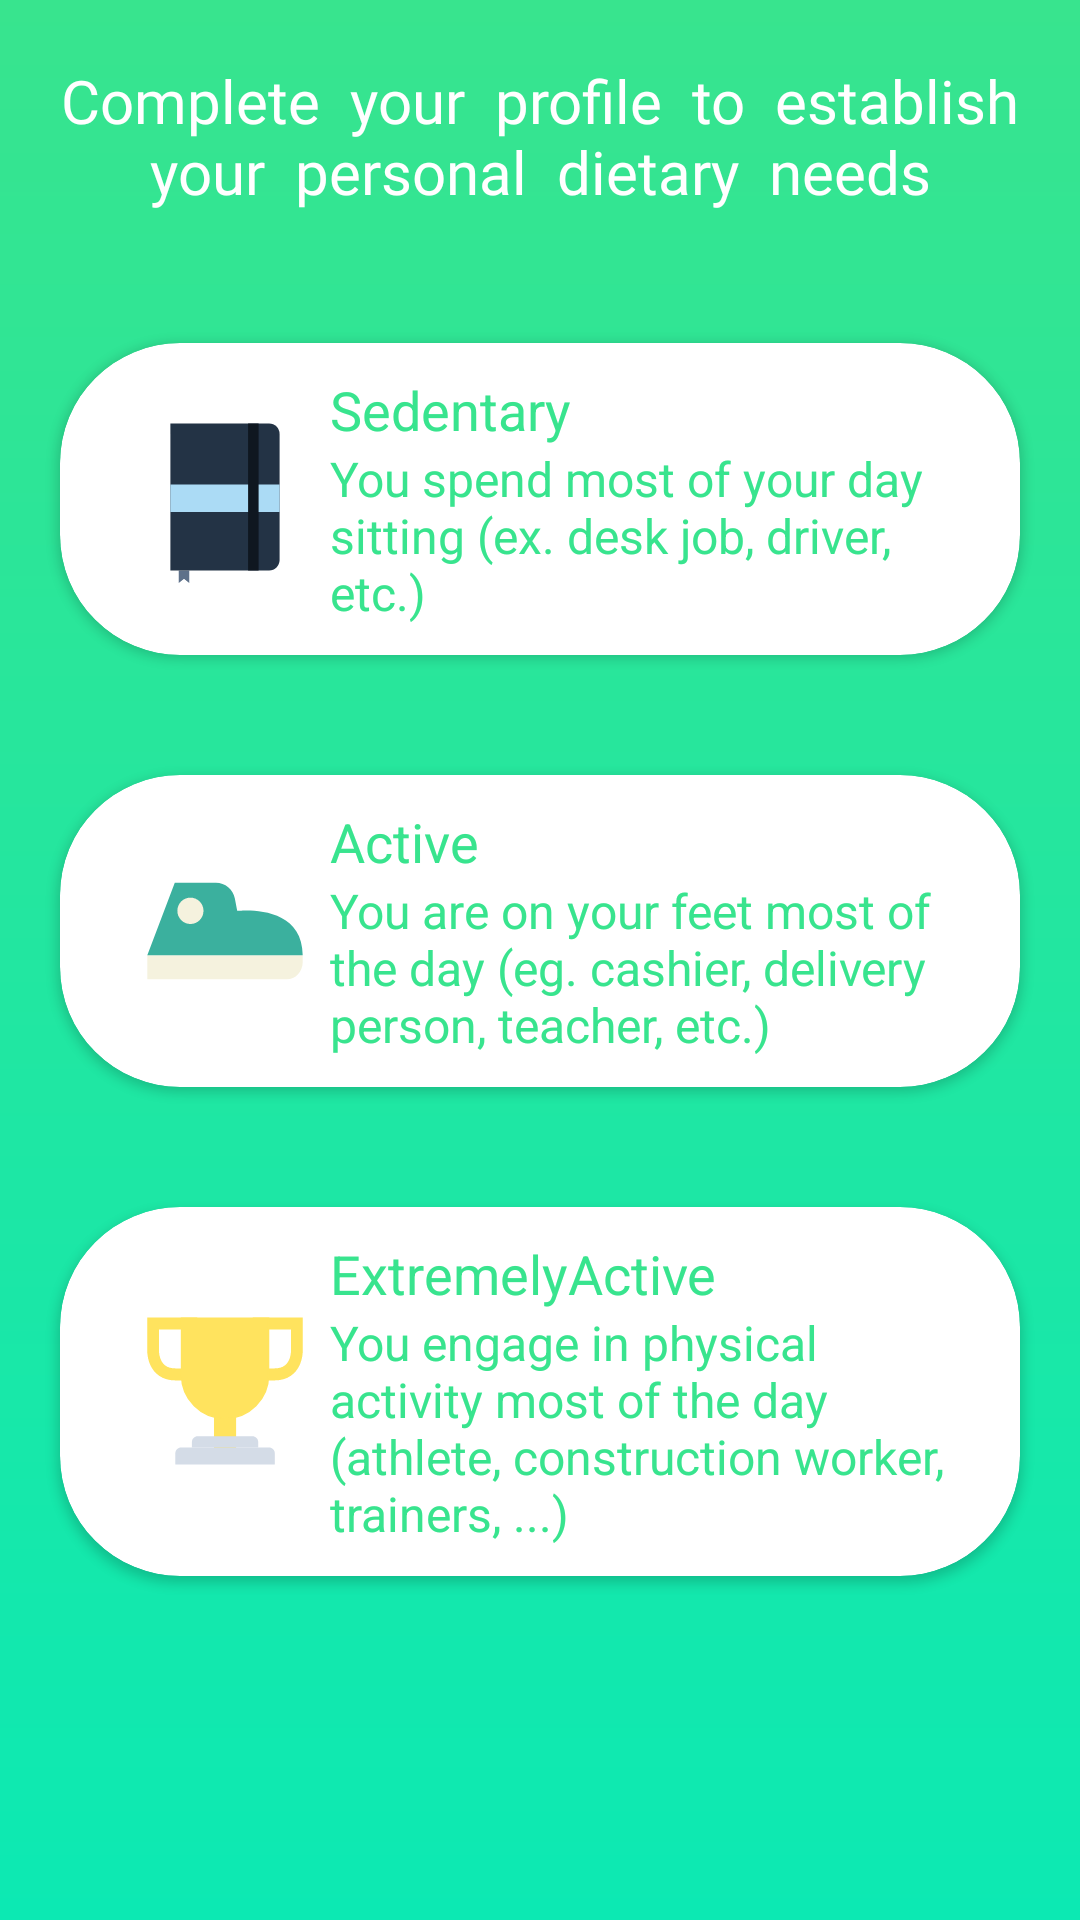

Icons on this 1080 x 1920 Android screen, each with its box as (x1, y1, x2, y2):
moleskine: (170, 423, 280, 583)
shoes: (147, 882, 303, 979)
trophy: (147, 1317, 303, 1464)
